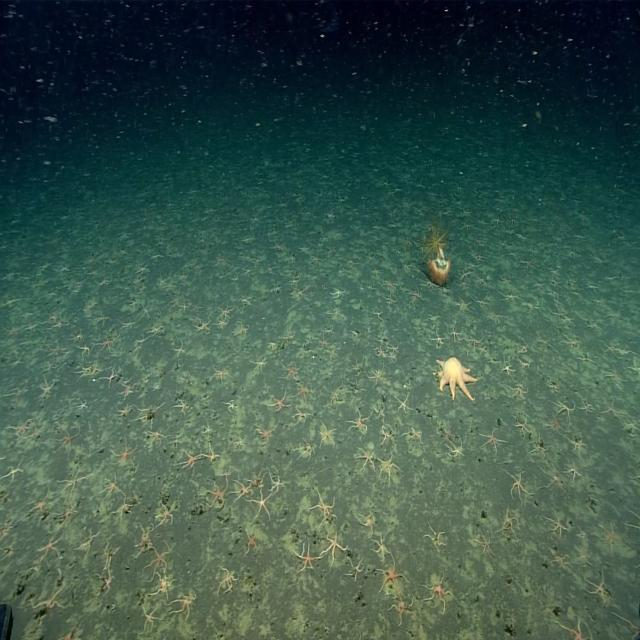brittle-stars: (424, 574, 453, 609), (378, 559, 406, 592), (503, 468, 530, 502), (390, 592, 420, 622), (312, 489, 338, 522), (38, 528, 62, 562), (322, 533, 346, 567), (557, 614, 588, 640), (205, 475, 228, 510), (145, 545, 170, 577), (33, 586, 65, 610), (61, 468, 87, 497), (542, 466, 567, 496), (294, 539, 318, 570), (587, 570, 610, 602), (173, 590, 197, 619), (112, 439, 136, 466), (216, 565, 239, 593), (377, 452, 399, 481), (597, 523, 618, 553), (56, 426, 80, 452), (480, 427, 503, 454), (500, 506, 518, 539), (425, 523, 445, 551), (136, 521, 154, 552), (2, 458, 25, 482), (602, 395, 622, 422), (254, 490, 271, 521), (155, 500, 176, 525), (153, 576, 176, 598), (140, 604, 161, 628), (372, 531, 389, 560), (115, 496, 133, 523), (474, 530, 492, 557), (138, 404, 159, 427), (511, 413, 531, 437), (98, 568, 116, 594), (349, 408, 370, 430), (30, 491, 50, 514), (233, 478, 254, 499), (101, 475, 121, 497), (59, 502, 78, 524), (255, 426, 277, 445), (295, 379, 313, 402), (12, 418, 32, 438), (267, 393, 288, 412), (548, 514, 566, 536), (348, 555, 363, 581), (550, 551, 570, 570), (319, 425, 336, 447), (546, 414, 563, 436), (554, 400, 576, 417), (506, 384, 528, 401), (298, 437, 314, 460), (360, 510, 375, 534), (529, 438, 549, 456), (359, 448, 375, 470), (448, 436, 463, 459), (218, 299, 236, 318), (564, 461, 581, 481), (40, 374, 55, 396), (329, 381, 344, 403), (210, 366, 228, 384), (396, 394, 412, 414), (448, 322, 463, 343), (182, 452, 200, 469), (569, 436, 585, 455), (561, 333, 580, 349), (293, 407, 310, 424), (405, 427, 422, 444), (98, 336, 116, 352), (283, 364, 299, 382), (369, 368, 385, 386), (245, 530, 258, 552), (148, 429, 163, 448), (120, 380, 136, 397), (233, 321, 249, 338), (206, 445, 220, 464), (472, 294, 489, 309), (253, 356, 267, 374), (172, 341, 185, 360), (175, 398, 190, 414), (196, 319, 211, 335), (580, 396, 594, 413), (457, 297, 471, 314), (104, 366, 117, 384), (601, 342, 619, 355), (432, 328, 445, 346), (94, 312, 109, 327), (118, 402, 132, 418), (148, 324, 164, 338), (214, 316, 230, 330), (501, 291, 518, 304), (466, 334, 484, 346), (407, 288, 422, 302), (234, 433, 247, 449), (516, 340, 529, 356), (519, 257, 535, 270), (502, 360, 514, 377), (372, 404, 384, 421), (380, 425, 392, 442), (486, 312, 504, 323), (224, 398, 239, 411), (331, 287, 346, 300), (78, 362, 90, 378), (80, 341, 91, 358), (238, 294, 252, 307), (77, 397, 89, 412), (122, 317, 136, 329), (136, 264, 150, 276), (382, 279, 397, 290), (191, 302, 204, 314), (203, 422, 214, 436), (498, 275, 512, 286), (374, 344, 386, 356), (242, 266, 254, 278), (320, 333, 330, 347), (478, 344, 489, 356), (389, 342, 400, 353)
